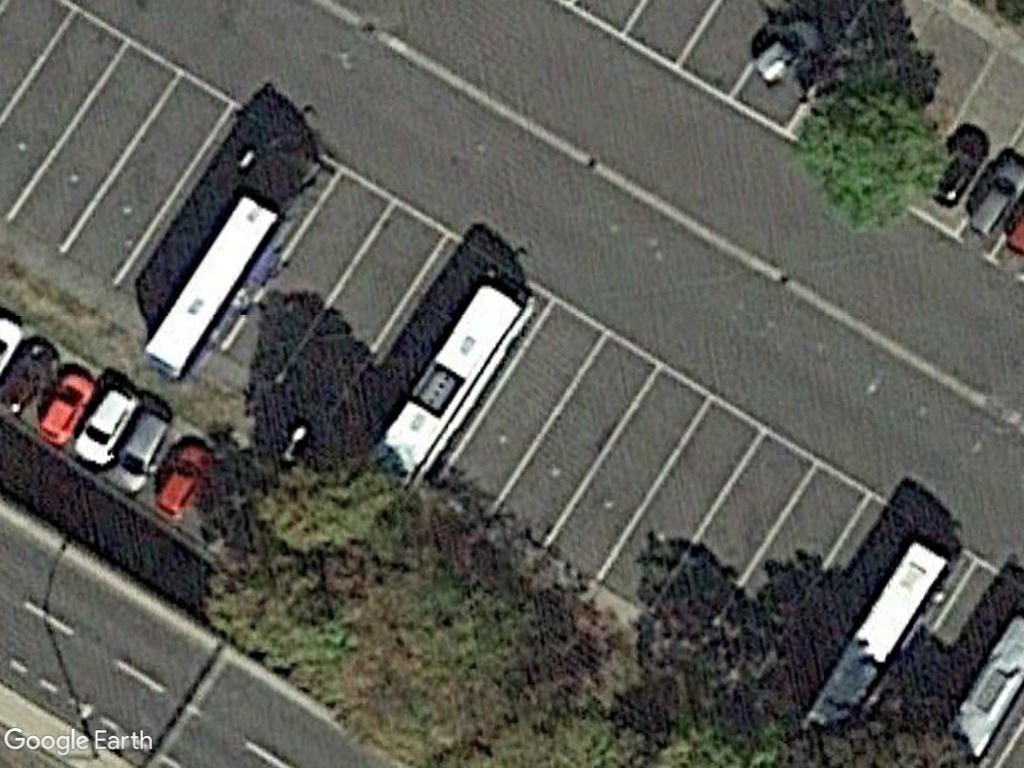bus: (347, 279, 534, 496), (132, 186, 291, 387)
car: (148, 436, 216, 529), (31, 364, 96, 448)
van: (73, 378, 142, 473), (106, 401, 170, 492)
